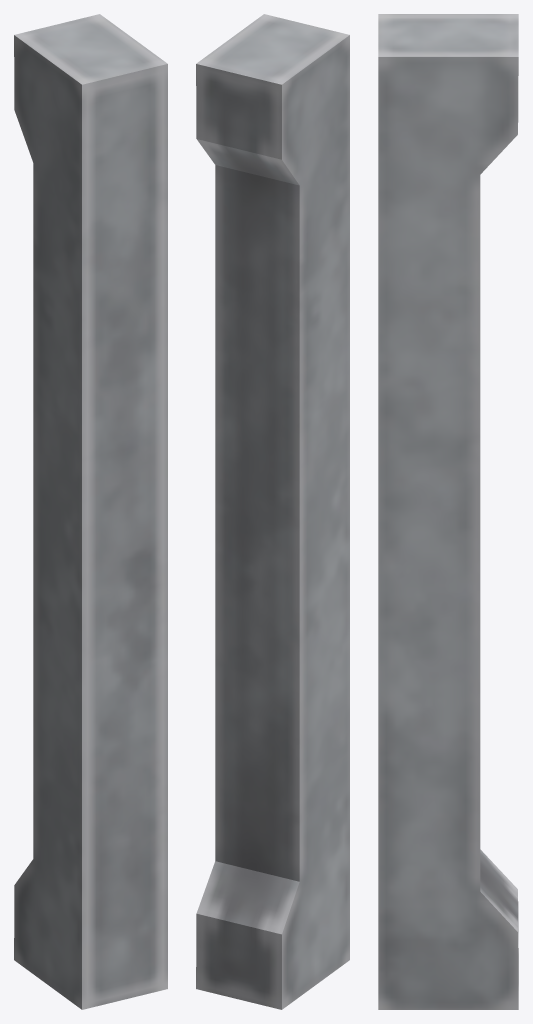
The model's file is Pfb_Soda_Ironframe__2.fbx.
3 renders of one model, left to right at view 1: azimuth 30°, elevation 25°; view 2: azimuth 150°, elevation 25°; view 3: azimuth 270°, elevation 25°, orthographic. The views are drawn at different scales.
Visible parts, largest first — view 1: MAT_Soda_Ironfame; view 2: MAT_Soda_Ironfame; view 3: MAT_Soda_Ironfame.
Part boxes in pixels (x1,y1,x2,y2): MAT_Soda_Ironfame: [14, 14, 167, 1009]; MAT_Soda_Ironfame: [196, 14, 349, 1009]; MAT_Soda_Ironfame: [378, 14, 518, 1009].
Size of the model in its own units: 0.3862 by 3.98 by 0.5307.
Materials: 1 (1 with a texture image).
